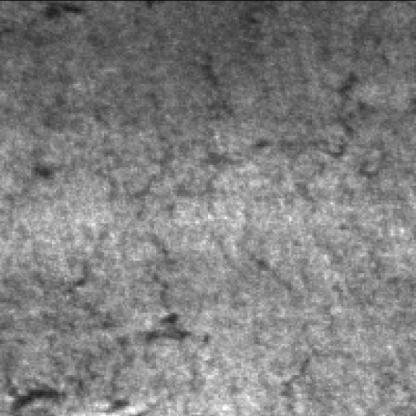crazing: (48, 231, 204, 416), (92, 60, 241, 216), (264, 40, 358, 214)
